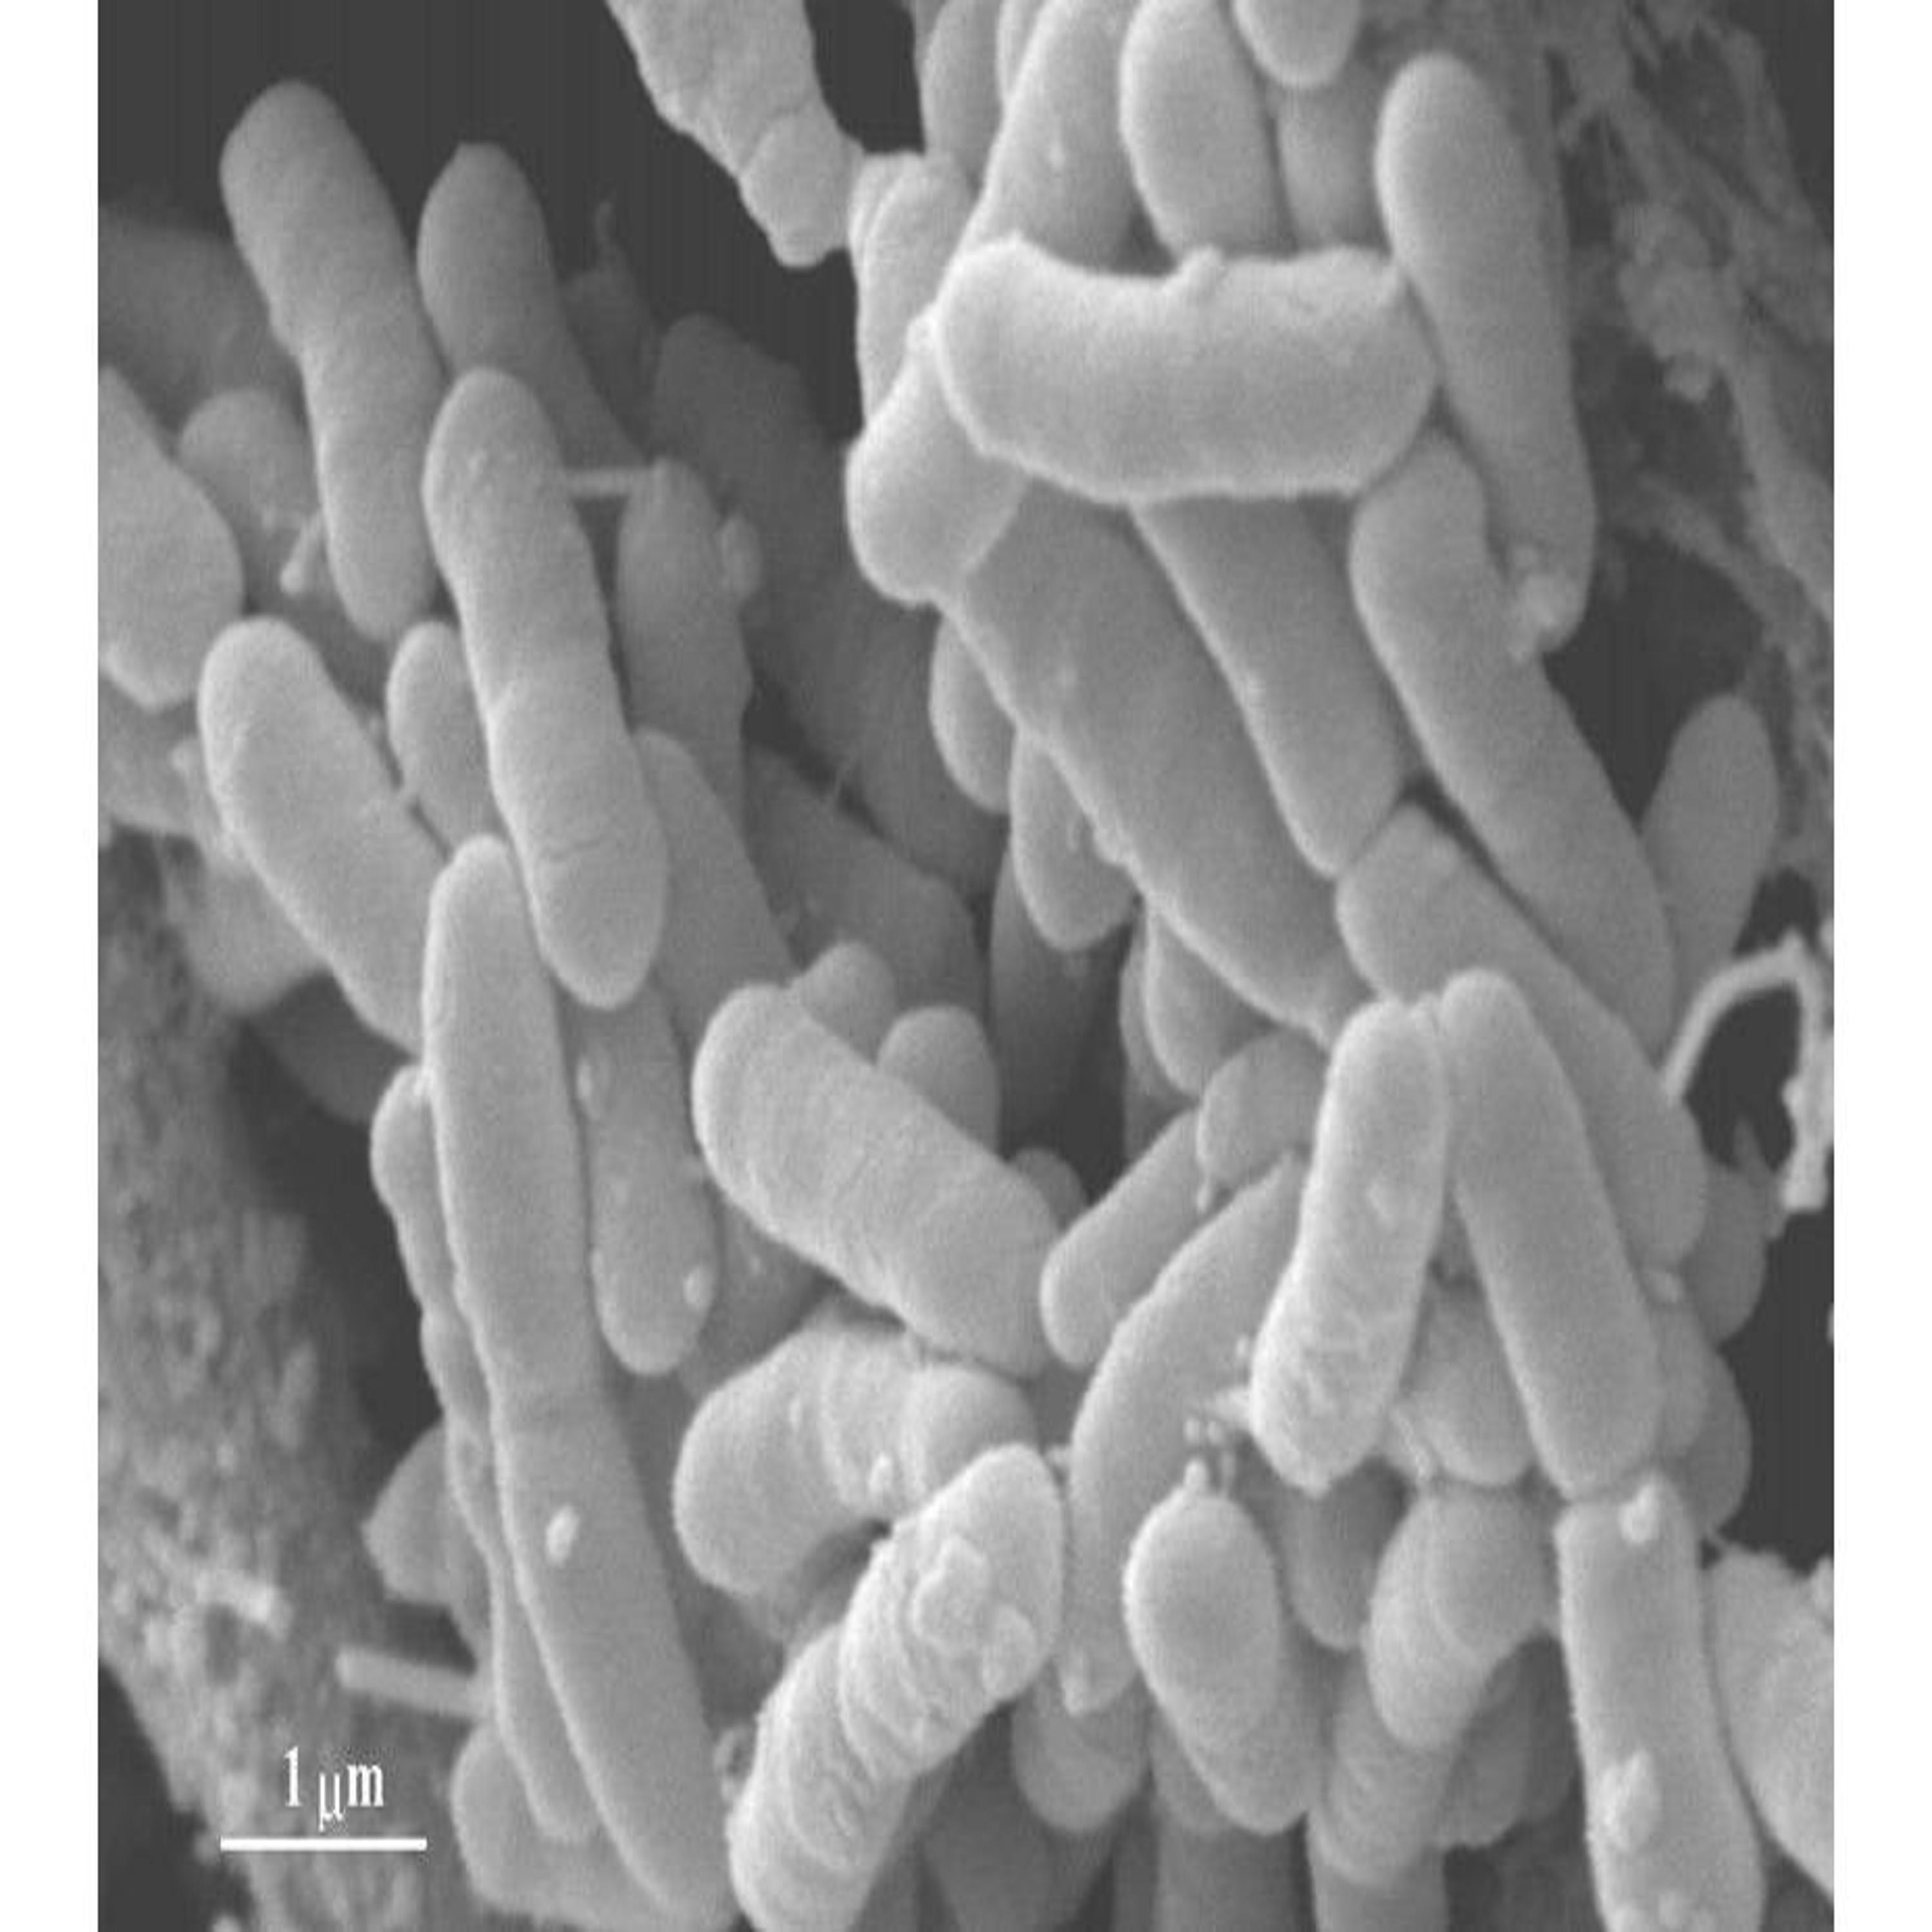Vibrio_cholerae5: (412, 370, 676, 1005), (924, 235, 1451, 497)
